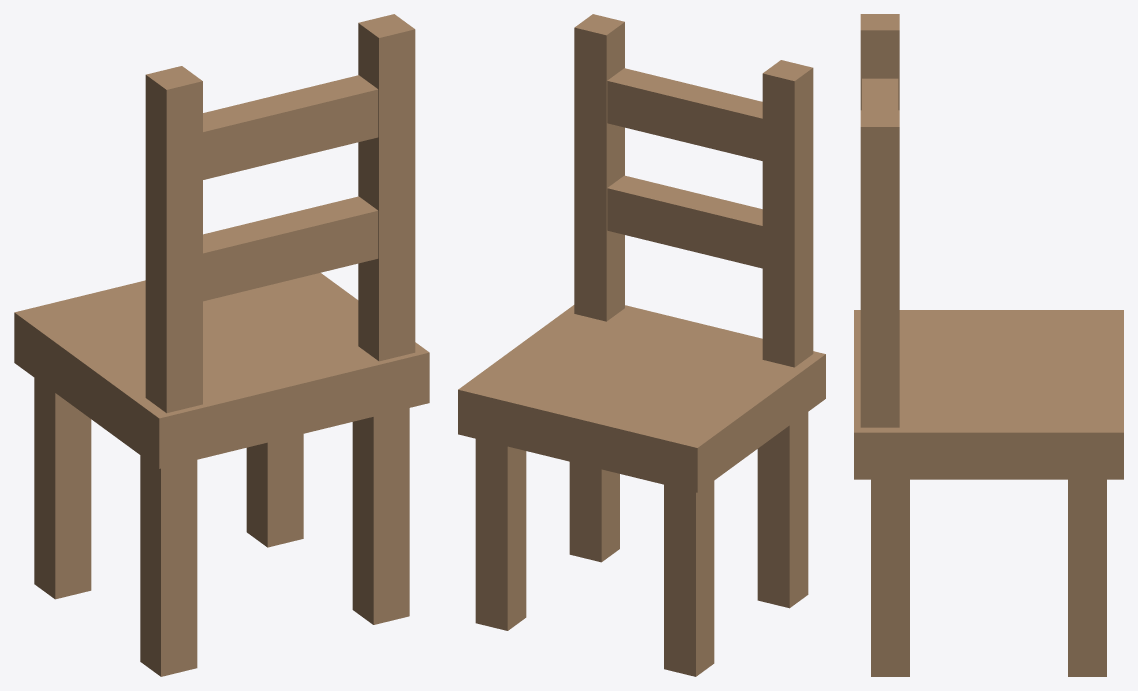
The model's file is chair.glb.
3 views of the same model, side by side, from view 1: azimuth 30°, elevation 25°; view 2: azimuth 150°, elevation 25°; view 3: azimuth 270°, elevation 25° (orthographic). The views are drawn at different scales.
Parts seen in each view (by area): view 1: chair_0; view 2: chair_0; view 3: chair_0.
Part boxes in pixels (x1=…): chair_0: x1=14, y1=14, x2=429, y2=676; chair_0: x1=458, y1=14, x2=825, y2=676; chair_0: x1=854, y1=14, x2=1123, y2=676.
Size of the model in its own units: 0.56 by 1.17 by 0.52.
